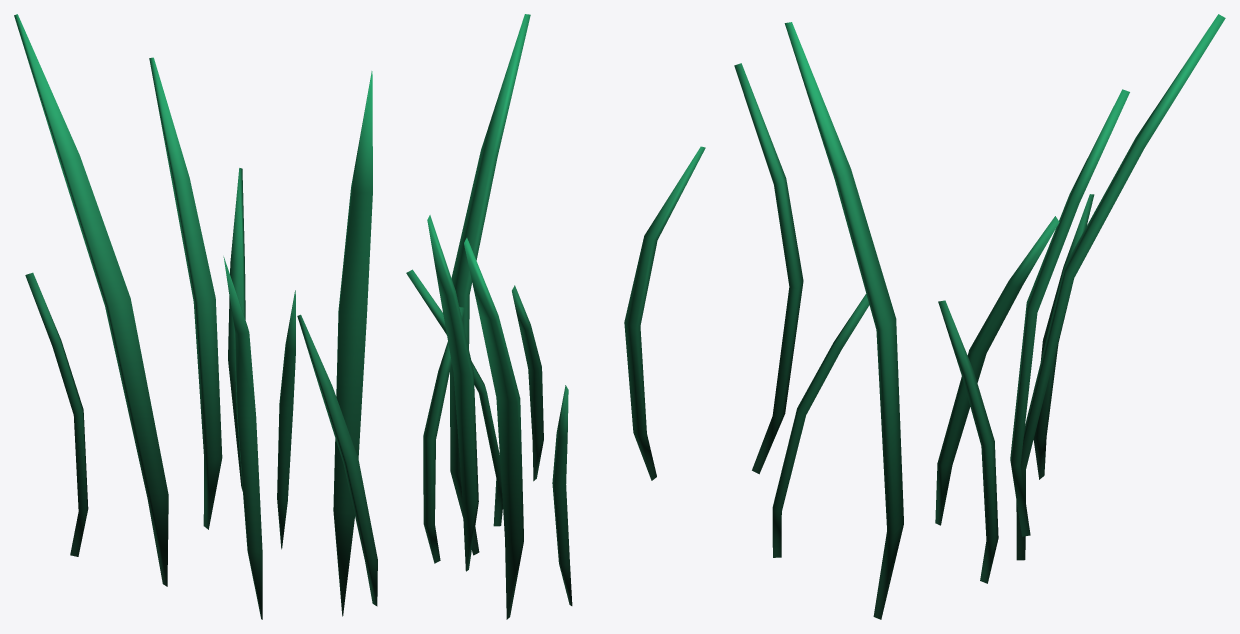
The model's file is grass12.fbx.
3 renders of one model, left to right at view 1: azimuth 30°, elevation 25°; view 2: azimuth 150°, elevation 25°; view 3: azimuth 270°, elevation 25°, orthographic. The views are drawn at different scales.
Visible parts, largest first — view 1: grass1; view 2: grass1; view 3: grass1.
Boxes of the visible parts, bbox=[...] form: grass1: bbox=[14, 14, 377, 619]; grass1: bbox=[406, 14, 705, 619]; grass1: bbox=[734, 14, 1225, 619].
Size of the model in its own units: 59.16 by 138 by 104.
